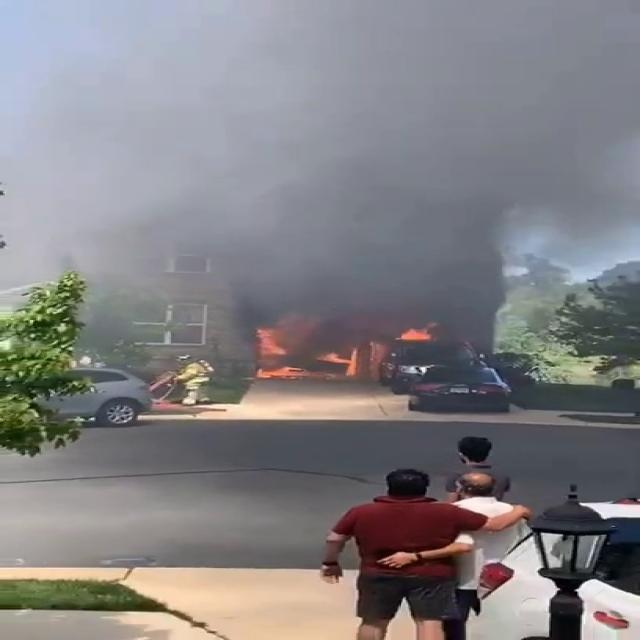Fire: (244, 326, 360, 382)
Smoke: (3, 0, 639, 348)
